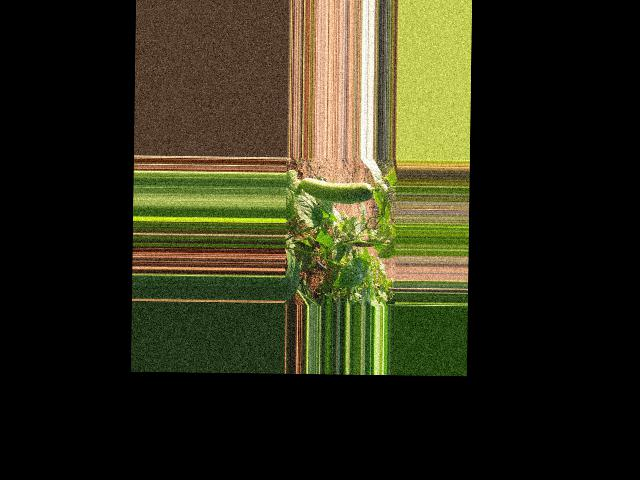cucumber: (299, 177, 372, 203)
